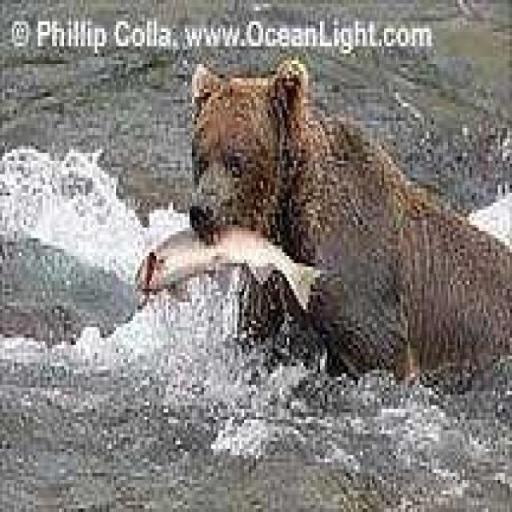Bear: (187, 54, 510, 391)
